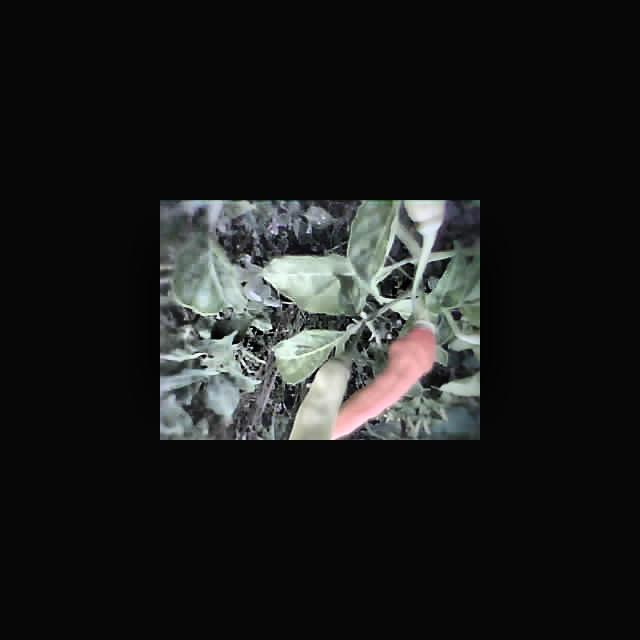Cabai: (357, 317, 440, 434)
